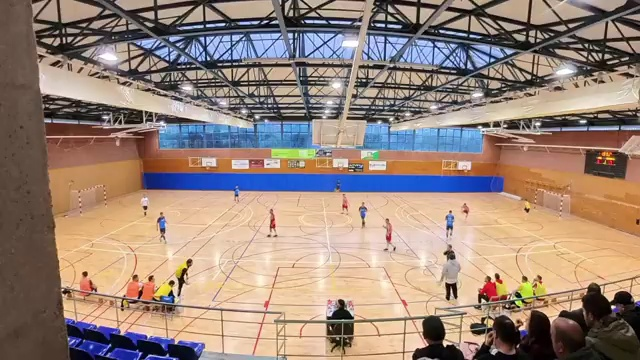players blue shirt: (445, 211, 454, 239), (157, 213, 166, 240), (361, 204, 367, 227), (234, 187, 239, 200)
players red shirt: (384, 219, 394, 250), (267, 208, 276, 236), (341, 194, 348, 213), (461, 203, 469, 217)
